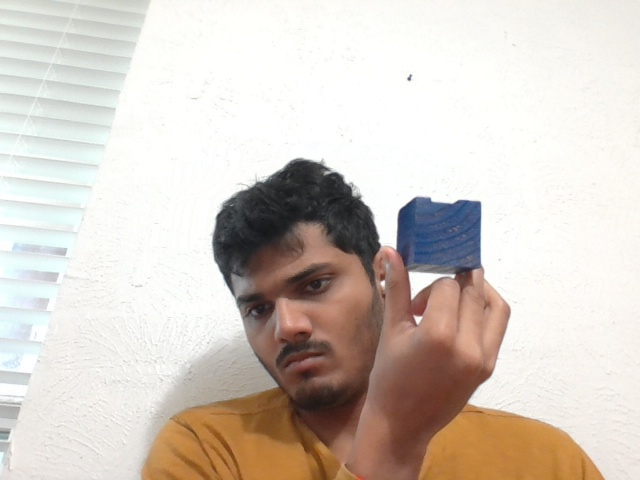BlueBlock: (397, 196, 483, 270)
